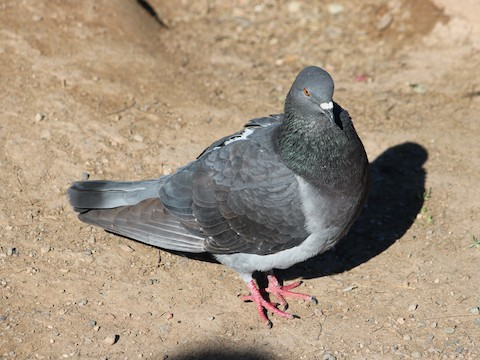pigeon: (66, 61, 371, 330)
